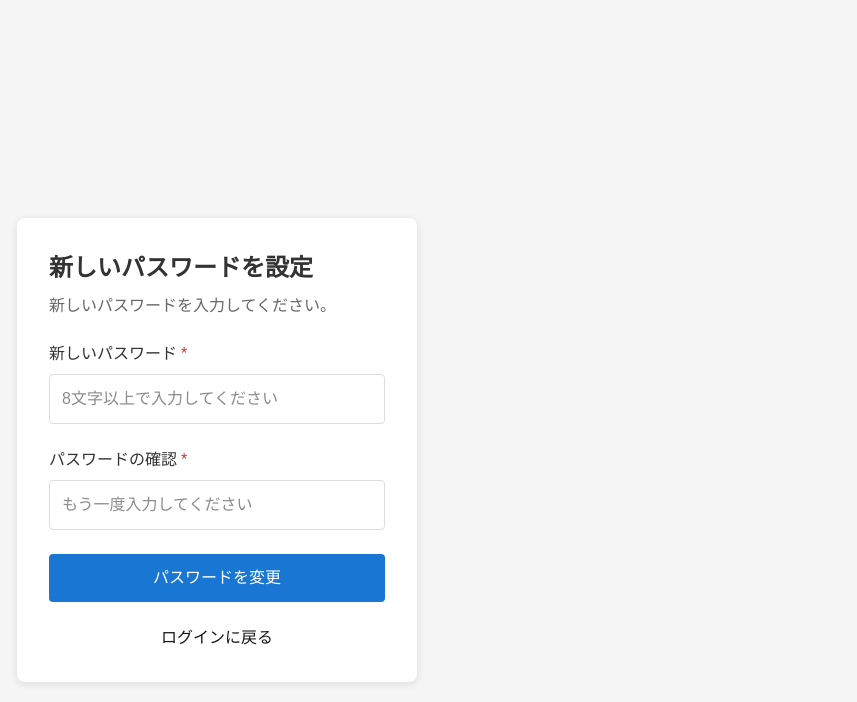
Test case: PasswordResetConfirmPage › Submission success › shows success message when API resolves
In the password field labelled "新しいパスワード*": (217, 399) [49, 374, 385, 424], type "ValidPass1"
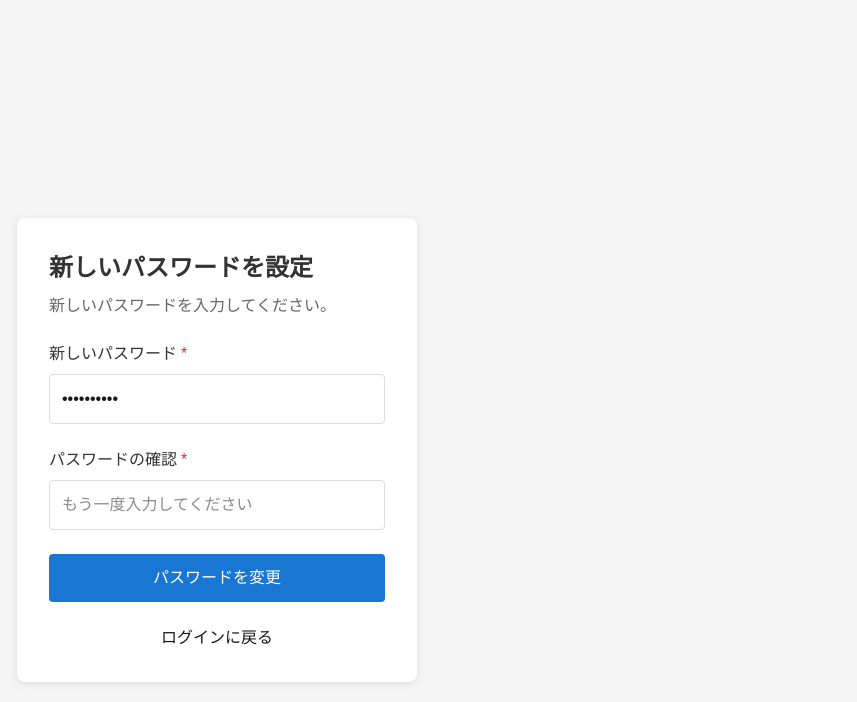
In the password field labelled "パスワードの確認*": (217, 505) [49, 480, 385, 530], type "ValidPass1"
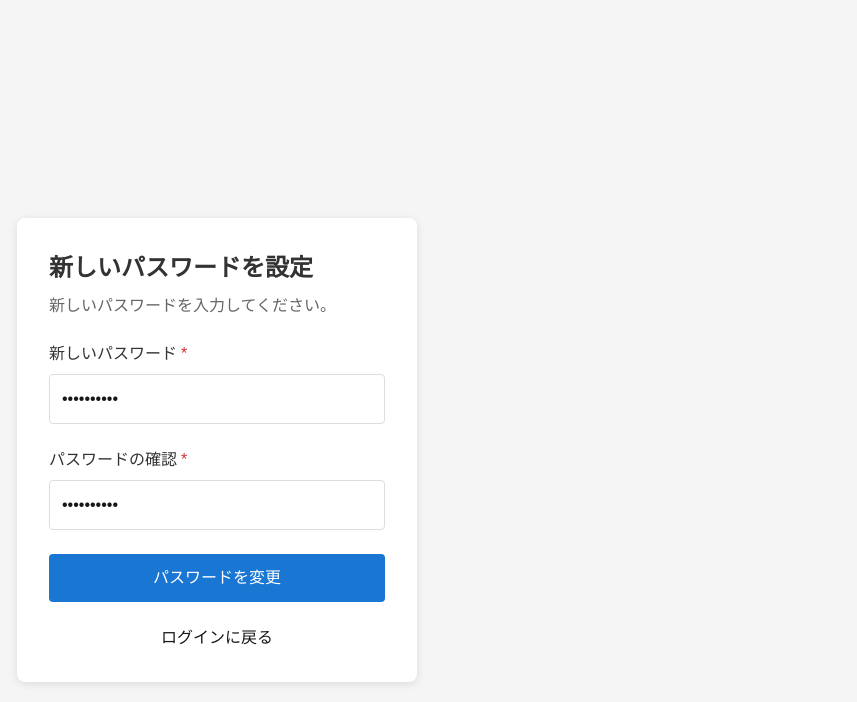
Click the button "パスワードを変更": (217, 578) [49, 554, 385, 602]
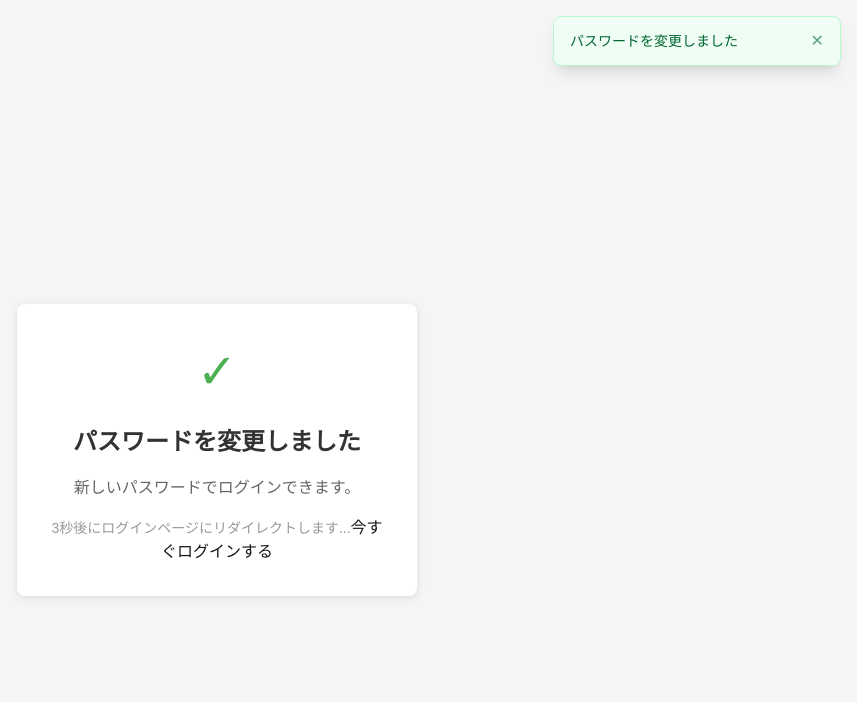
Result: the heading "パスワードを変更しました" is shown at [49, 424, 385, 460]
